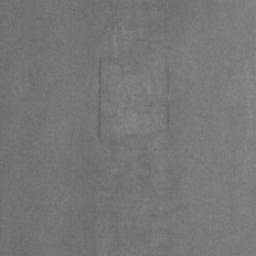Rolled pit: (100, 54, 166, 137)
